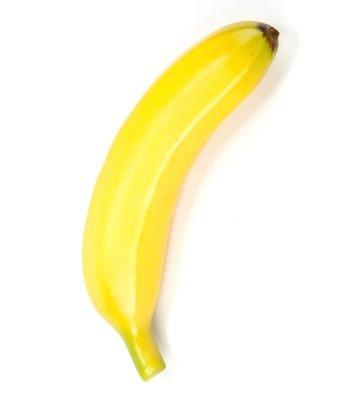banana: (0, 0, 360, 400)
